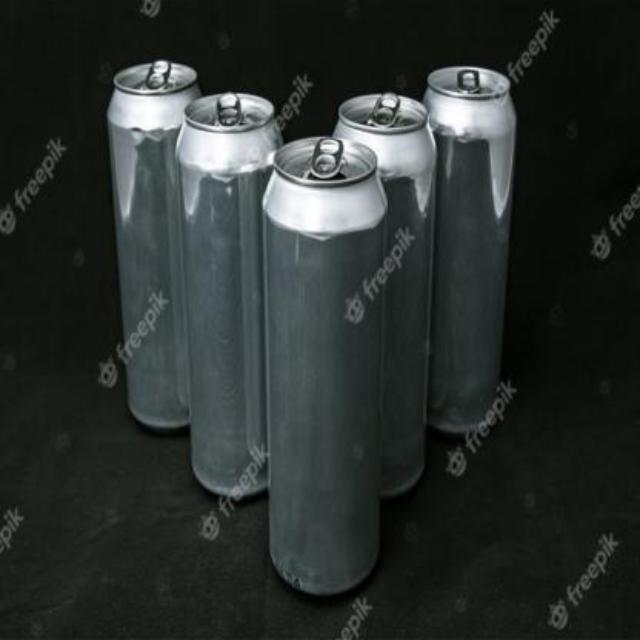metal: (262, 135, 383, 592), (177, 92, 282, 498), (334, 92, 434, 495), (106, 60, 200, 429), (423, 66, 515, 434)
